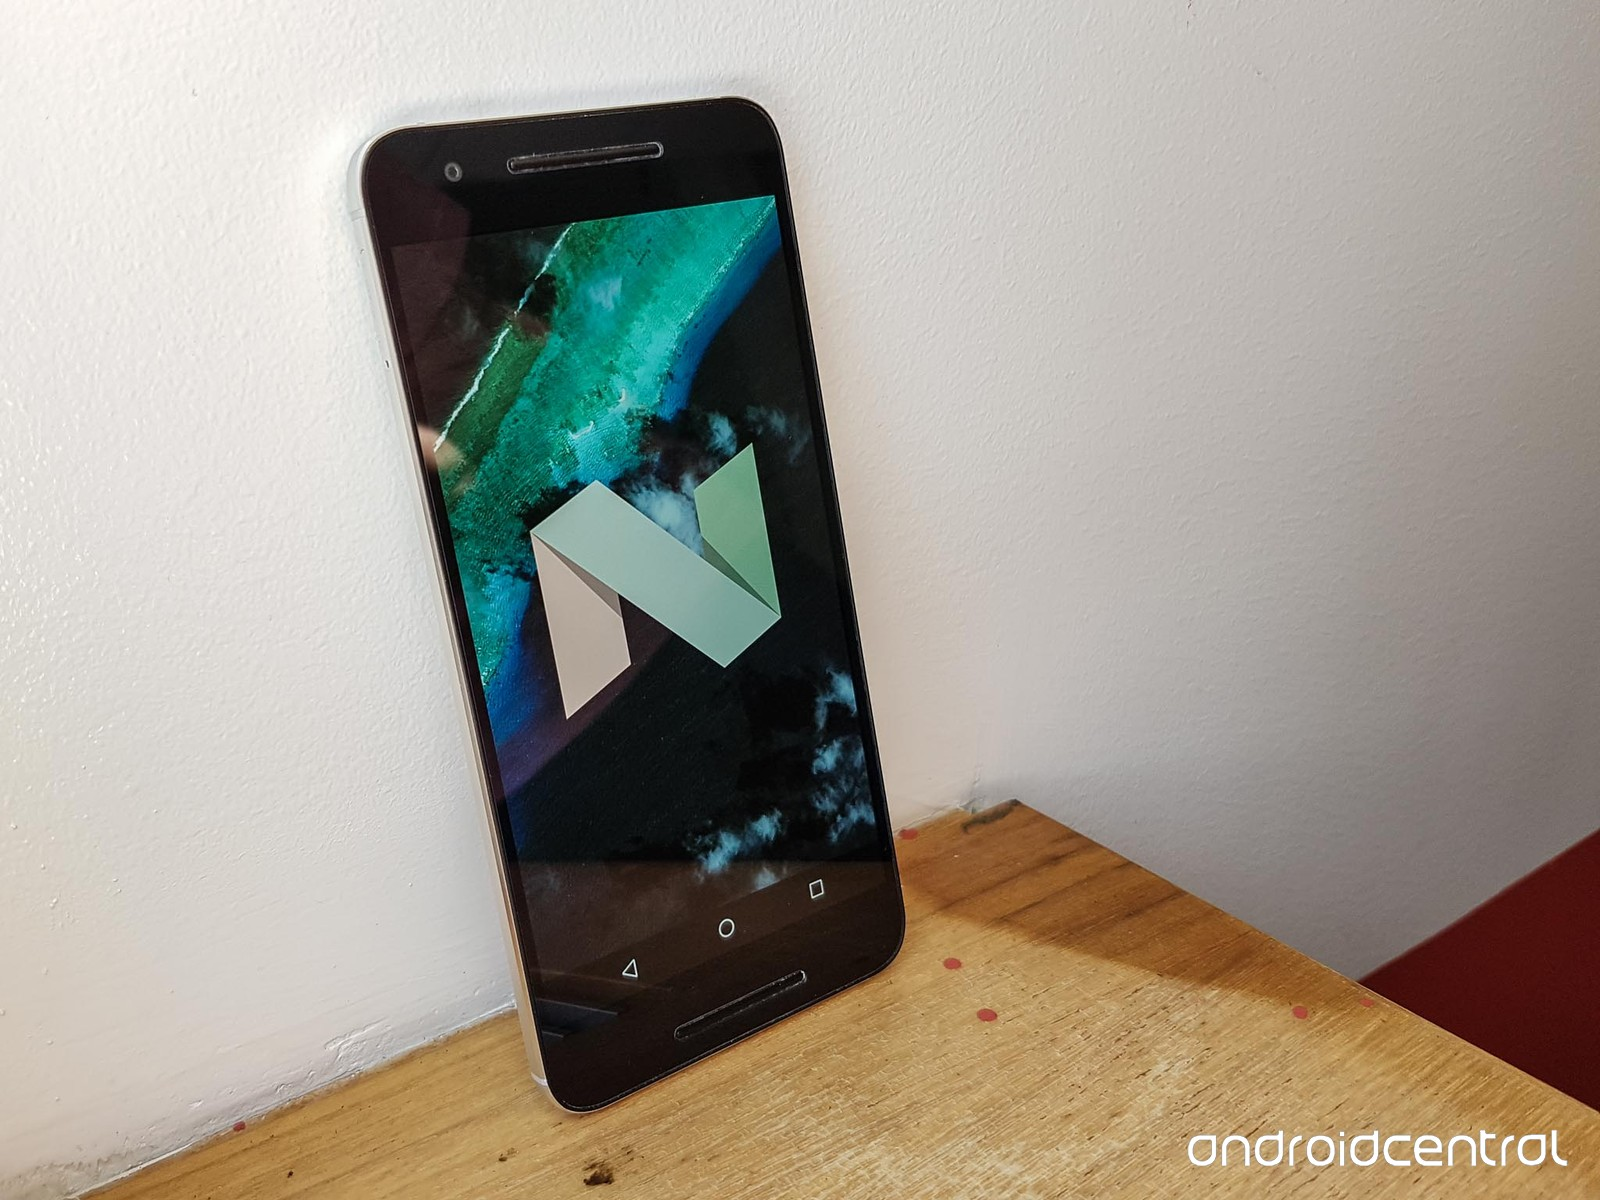smartphone: (344, 95, 906, 1116)
